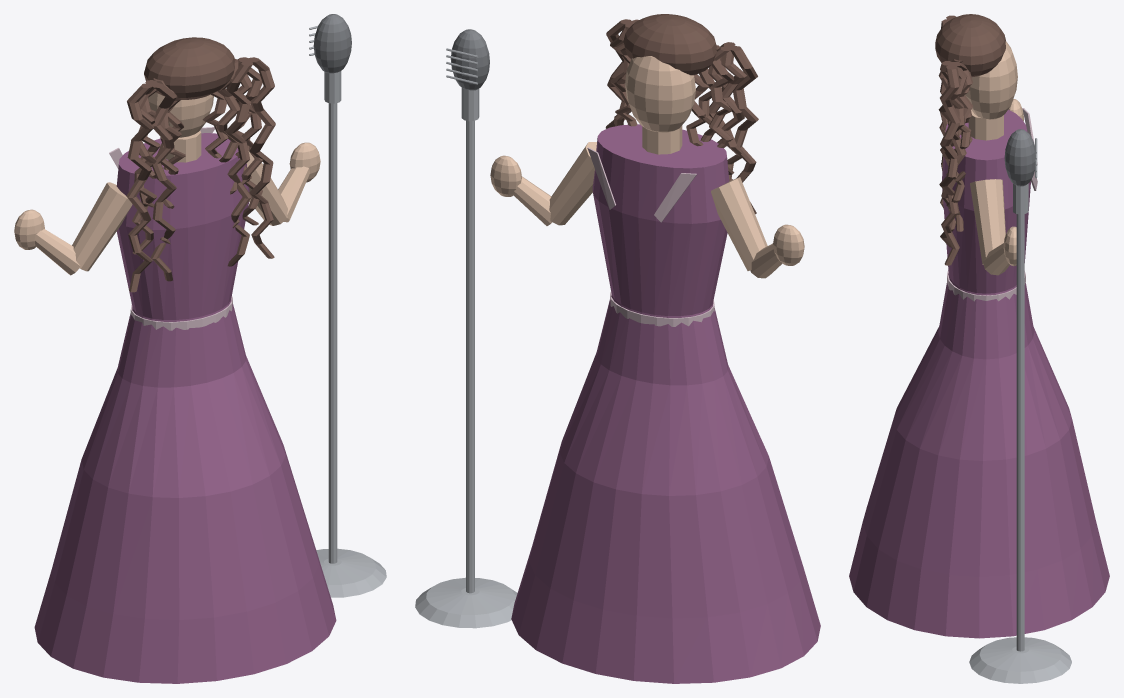
Rendered from female_singer.glb.
3 renders of one model, left to right at view 1: azimuth 30°, elevation 25°; view 2: azimuth 150°, elevation 25°; view 3: azimuth 270°, elevation 25°, orthographic. The views are drawn at different scales.
Parts seen in each view (by area): view 1: female_singer; view 2: female_singer; view 3: female_singer.
Boxes of the visible parts, x1,y1,x2,y2 form: female_singer: (14, 14, 386, 683); female_singer: (415, 14, 820, 683); female_singer: (849, 14, 1109, 683).
Size of the model in its own units: 1.18 by 1.82 by 0.76.
